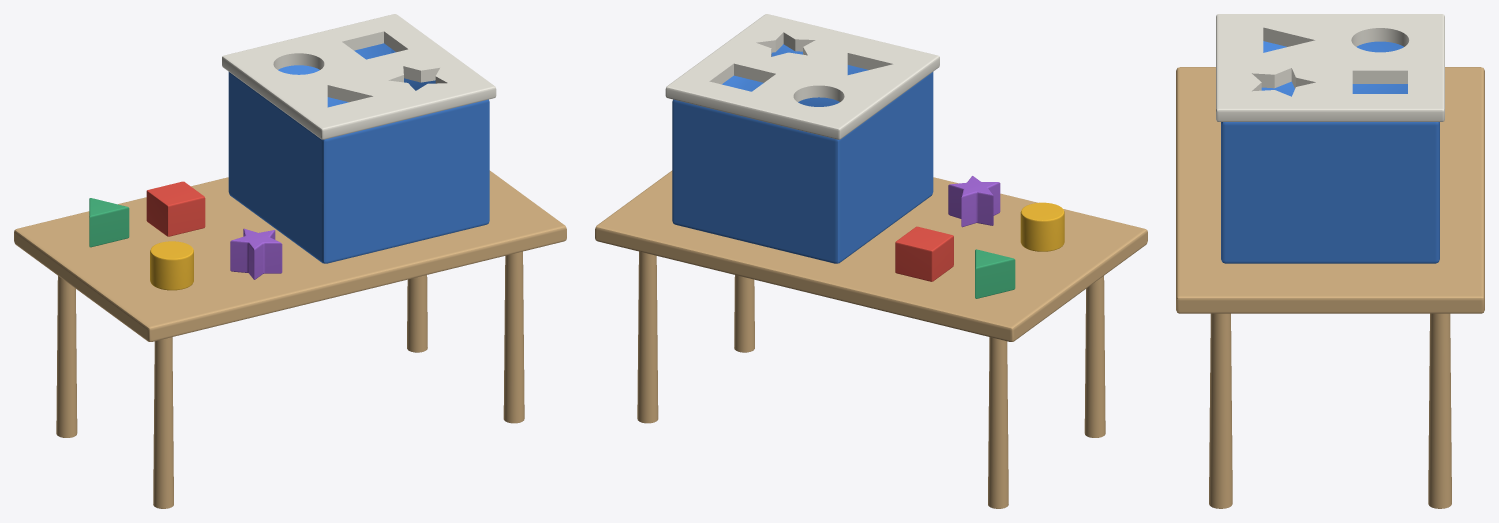
Rendered from ShapeSorter.glb.
3 renders of one model, left to right at view 1: azimuth 30°, elevation 25°; view 2: azimuth 150°, elevation 25°; view 3: azimuth 270°, elevation 25°, orthographic. The views are drawn at different scales.
Parts seen in each view (by area): view 1: Table, Box_Body, Box_Lid, Shape_Square, Shape_Star, Shape_Circle, Shape_Triangle; view 2: Table, Box_Body, Box_Lid, Shape_Square, Shape_Star, Shape_Circle, Shape_Triangle; view 3: Table, Box_Body, Box_Lid.
Boxes of the visible parts, left/top/right/bottom form: Table: left=14, top=170, right=566, bottom=508; Box_Body: left=228, top=43, right=489, bottom=263; Box_Lid: left=222, top=14, right=496, bottom=139; Shape_Square: left=146, top=181, right=205, bottom=236; Shape_Star: left=230, top=228, right=282, bottom=279; Shape_Circle: left=150, top=241, right=193, bottom=290; Shape_Triangle: left=89, top=198, right=129, bottom=247; Table: left=595, top=170, right=1147, bottom=508; Box_Body: left=672, top=44, right=933, bottom=263; Box_Lid: left=665, top=14, right=939, bottom=139; Shape_Square: left=895, top=226, right=953, bottom=281; Shape_Star: left=948, top=176, right=1000, bottom=227; Shape_Circle: left=1020, top=202, right=1064, bottom=251; Shape_Triangle: left=975, top=249, right=1015, bottom=298; Table: left=1176, top=67, right=1484, bottom=508; Box_Body: left=1221, top=41, right=1439, bottom=263; Box_Lid: left=1216, top=14, right=1444, bottom=121.
Bounding box in the file's own units: 1.1 × 0.85 × 0.62.
